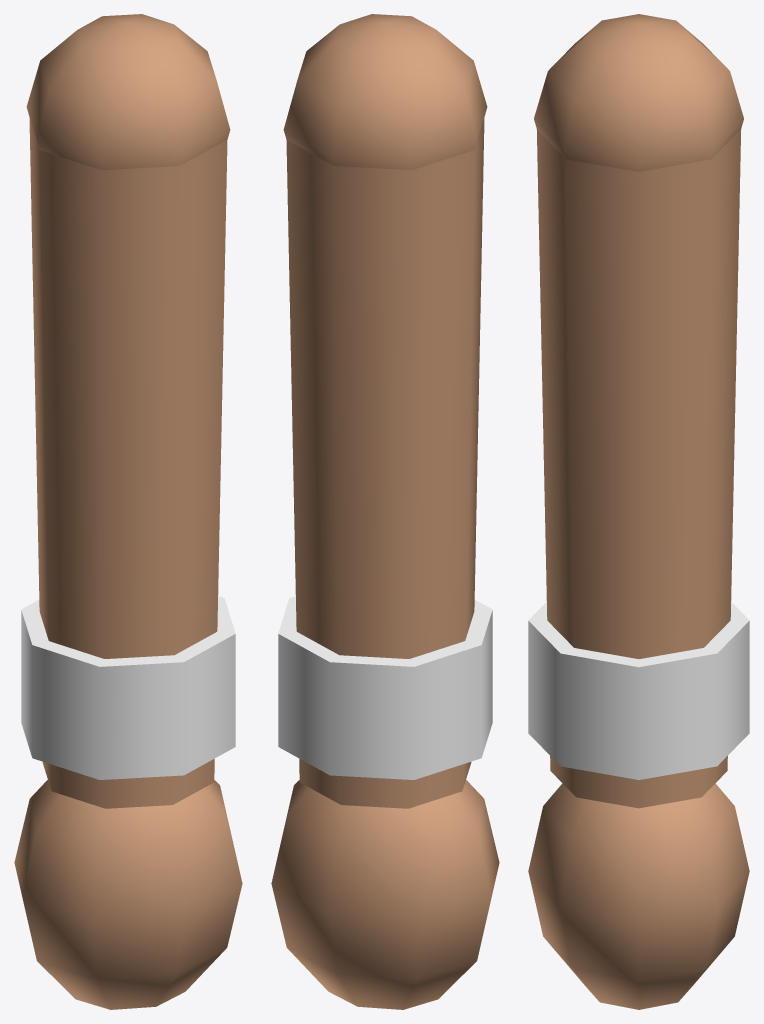
The model's file is Antebrazo.obj.
3 renders of one model, left to right at view 1: azimuth 30°, elevation 25°; view 2: azimuth 150°, elevation 25°; view 3: azimuth 270°, elevation 25°, orthographic.
Parts seen in each view (by area): view 1: Antebrazo; view 2: Antebrazo; view 3: Antebrazo.
Boxes of the visible parts, x1,y1,x2,y2 form: Antebrazo: [14, 14, 242, 1009]; Antebrazo: [271, 14, 499, 1009]; Antebrazo: [528, 14, 749, 1009].
Size of the model in its own units: 0.088 by 0.39 by 0.08.
Materials: 1 (1 with a texture image).
